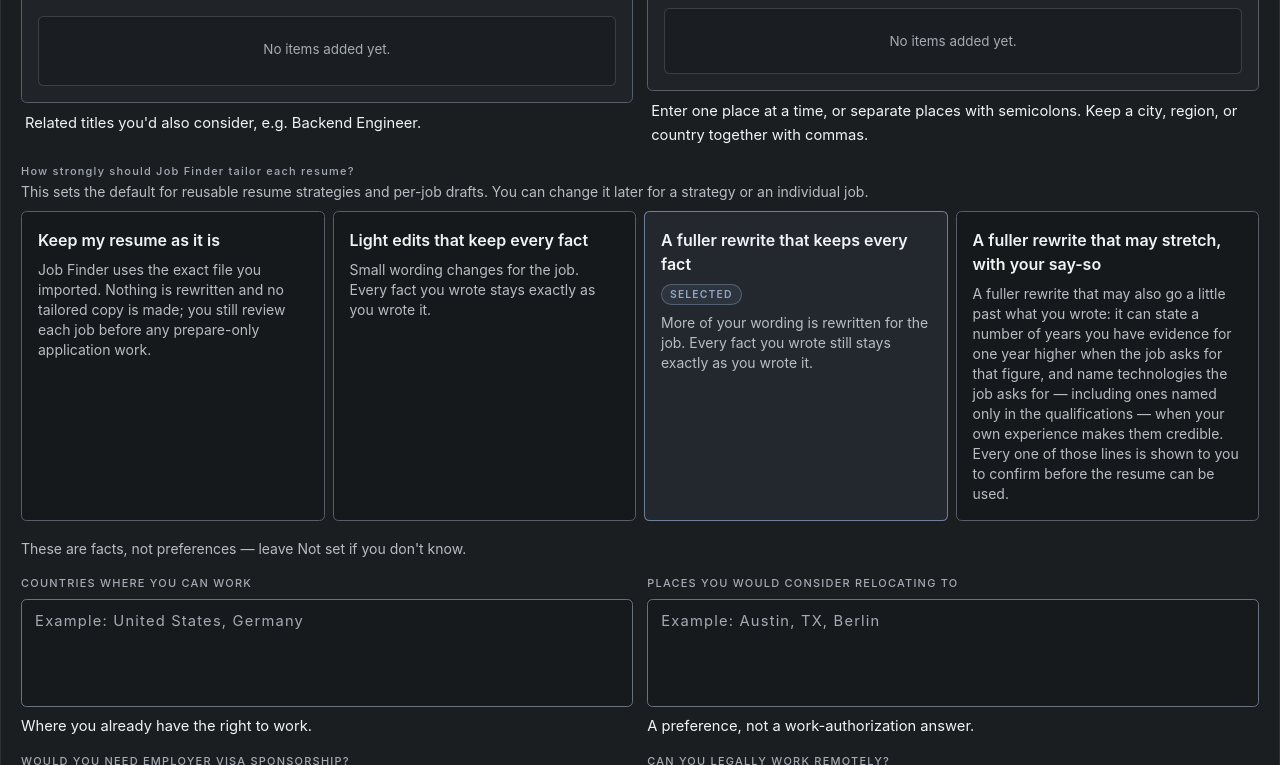
Test: profile setup customer-quality guidance › offers an explicit unchanged-original resume choice with privacy-safe copy
(page scrolled)
Click the radio button that starts with "Keep my resume as it is": (129, 240) 21,211 -> 324,521
(page scrolled)
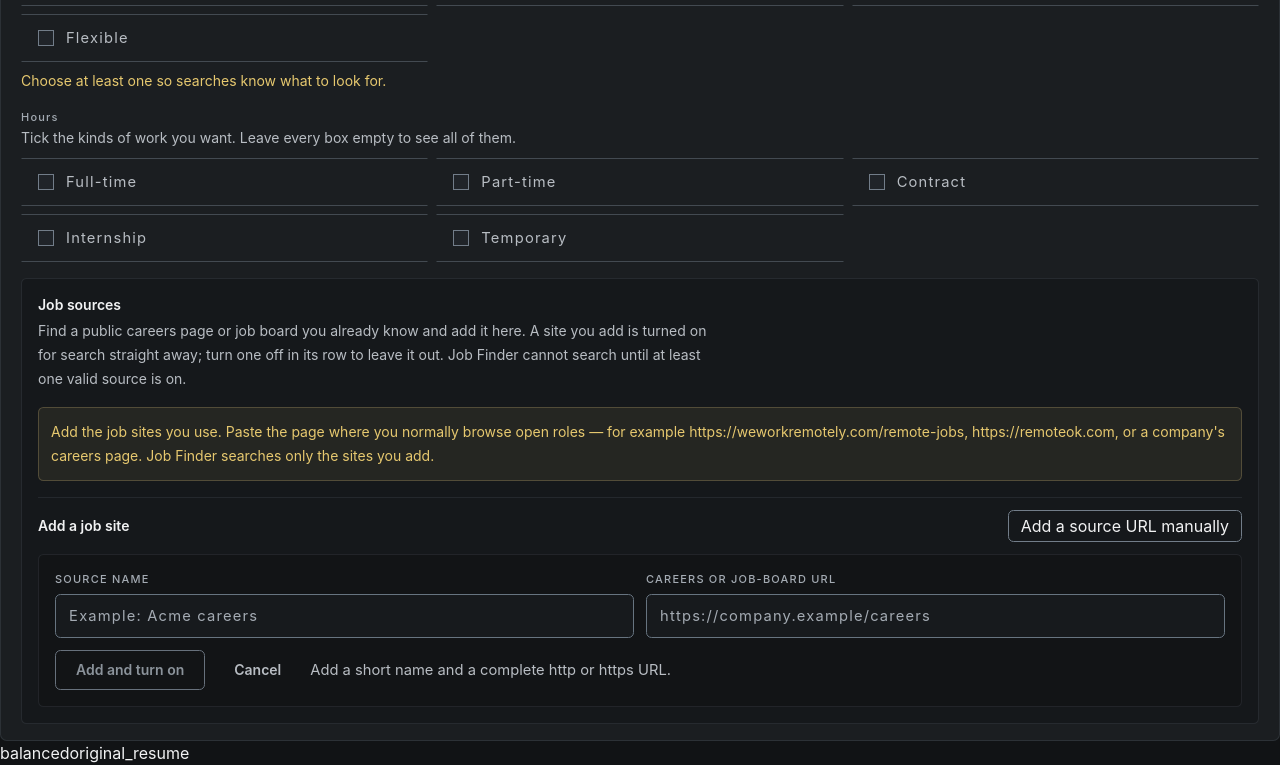
expect the text "original_resume" is shown: met, box 70,743 -> 189,763
